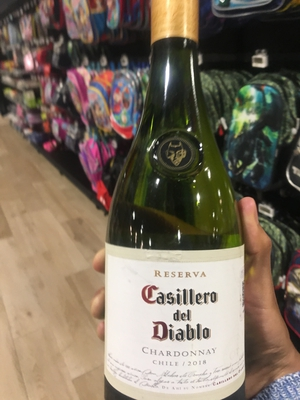casillero del diablo chardonnay: (102, 20, 248, 400)
